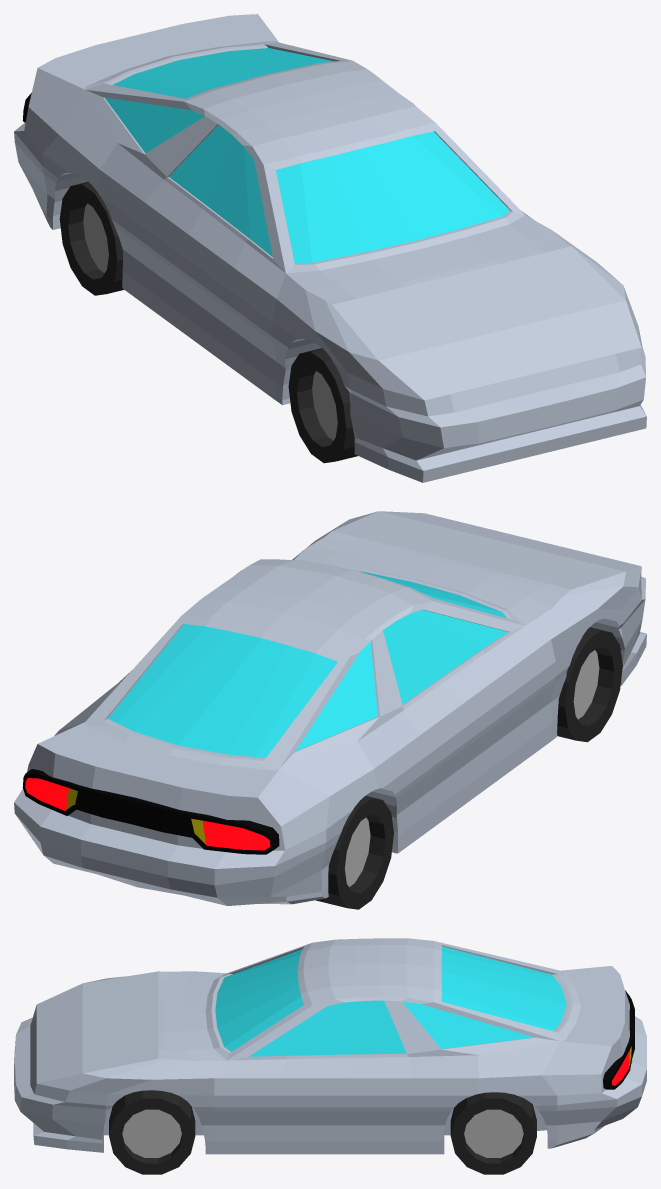
The model's file is nisan180sx_4w.fbx.
The picture shows the model from 3 angles, top to bottom: view 1: azimuth 30°, elevation 25°; view 2: azimuth 150°, elevation 25°; view 3: azimuth 270°, elevation 25°; orthographic projection. The views are drawn at different scales.
Visible parts, largest first — view 1: car body_nisan4w, wheel.008, wheel.009; view 2: car body_nisan4w, wheel.009, wheel.008; view 3: car body_nisan4w, wheel.006, wheel.007.
Part boxes in pixels (x1,y1,x2,y2): car body_nisan4w: (14, 14, 646, 482); wheel.008: (288, 348, 357, 463); wheel.009: (59, 182, 123, 295); car body_nisan4w: (14, 511, 646, 905); wheel.009: (316, 796, 393, 909); wheel.008: (557, 627, 622, 742); car body_nisan4w: (14, 938, 646, 1154); wheel.006: (109, 1090, 195, 1174); wheel.007: (450, 1092, 536, 1174).
Size of the model in its own units: 471 by 343 by 1219.
